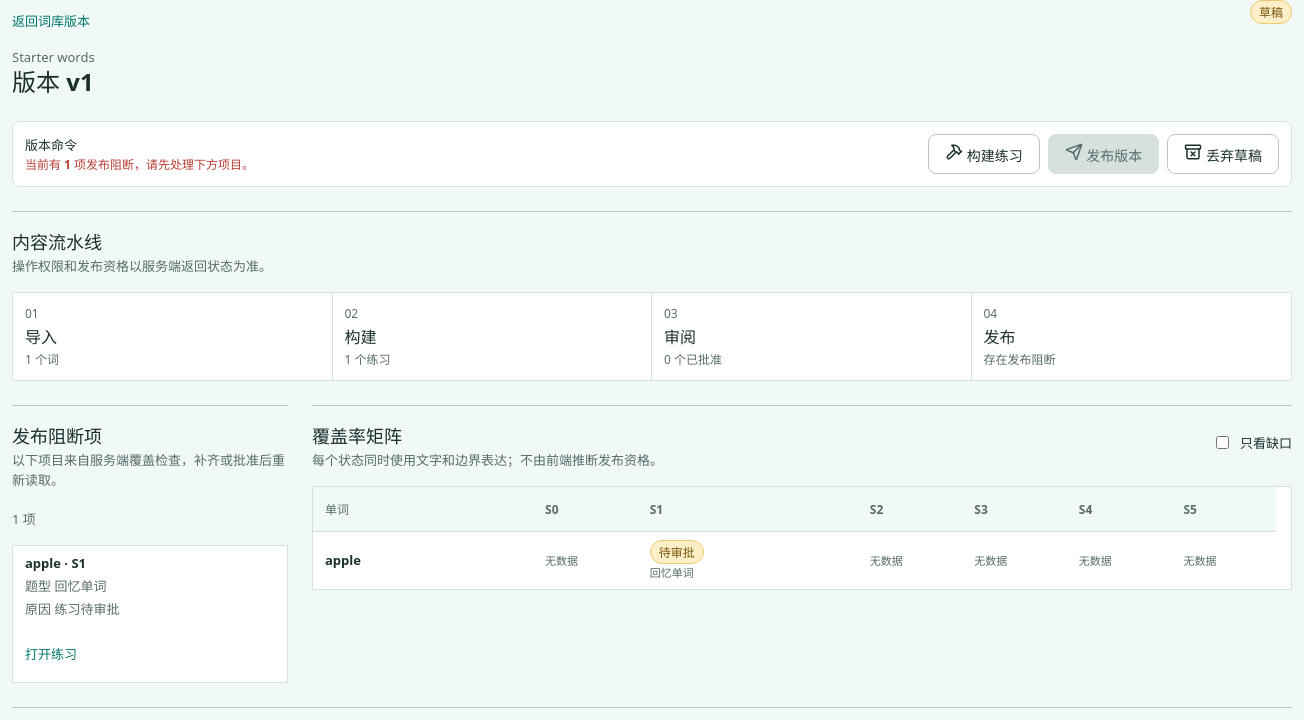
SourceVersionDetailPage › recovers the archived state when the discard response is lost after commit
The image size is (1304, 720).
Click the button "丢弃草稿". click: [1223, 154]
box: [1167, 134, 1279, 174]
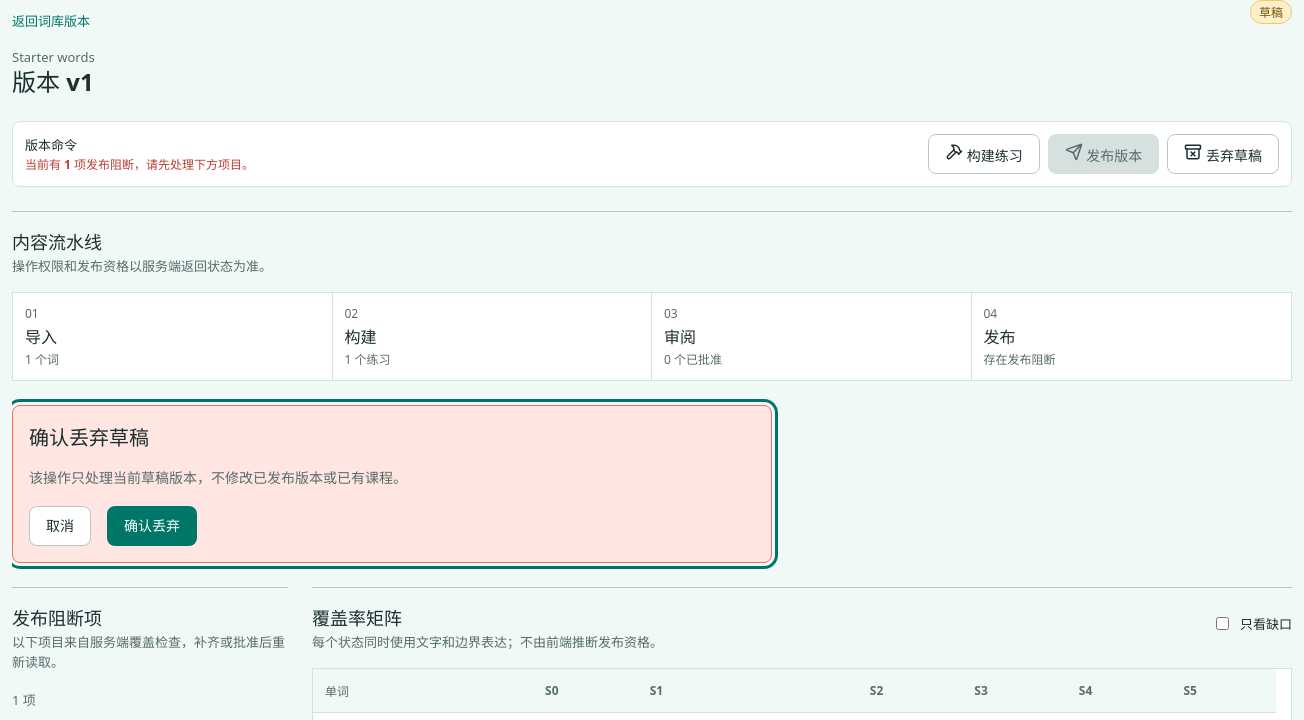
Click the button "确认丢弃". click: [152, 526]
box: [107, 506, 197, 546]
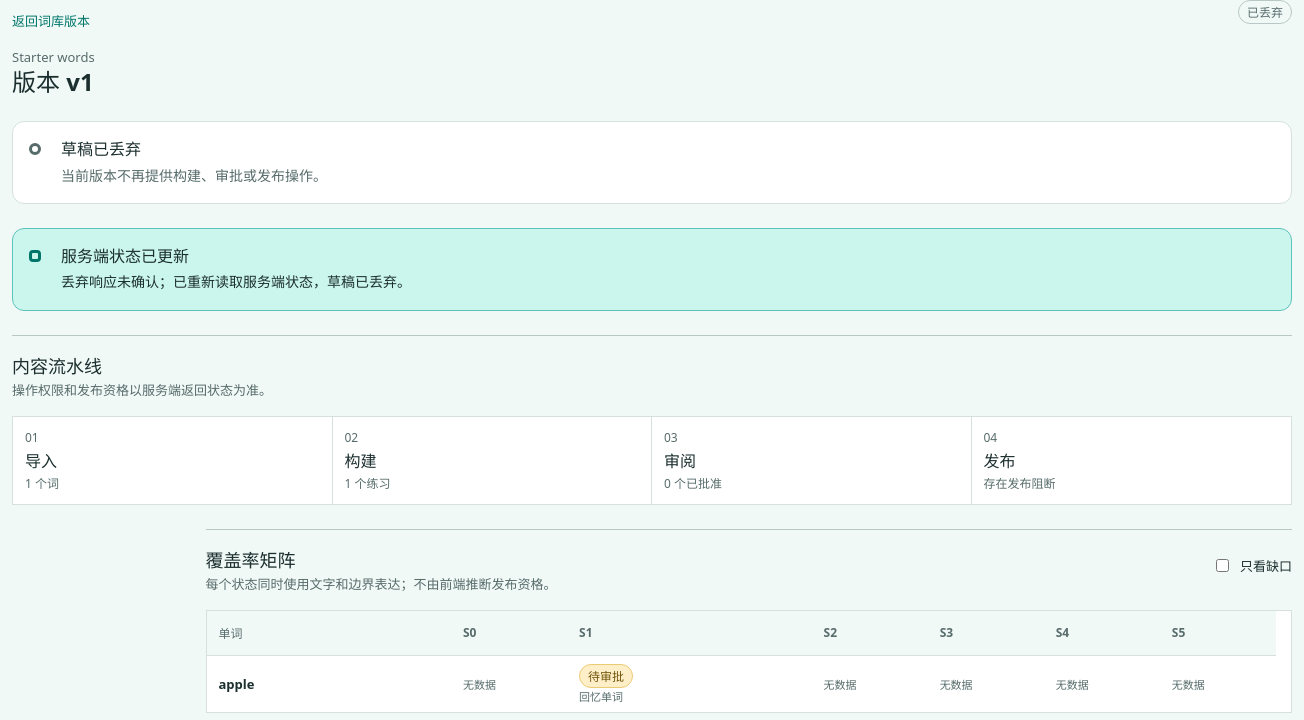
expect the text "已丢弃" is shown: met, box [1238, 0, 1292, 24]
